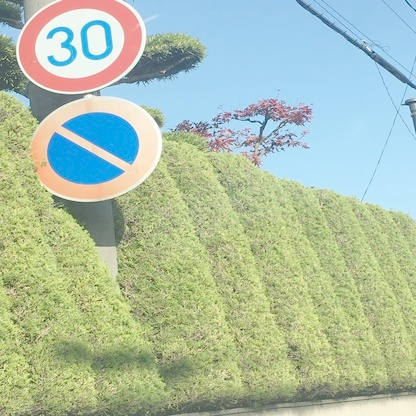Prohibition_sign: (23, 94, 166, 205)
Speed_sign: (14, 1, 152, 95)
